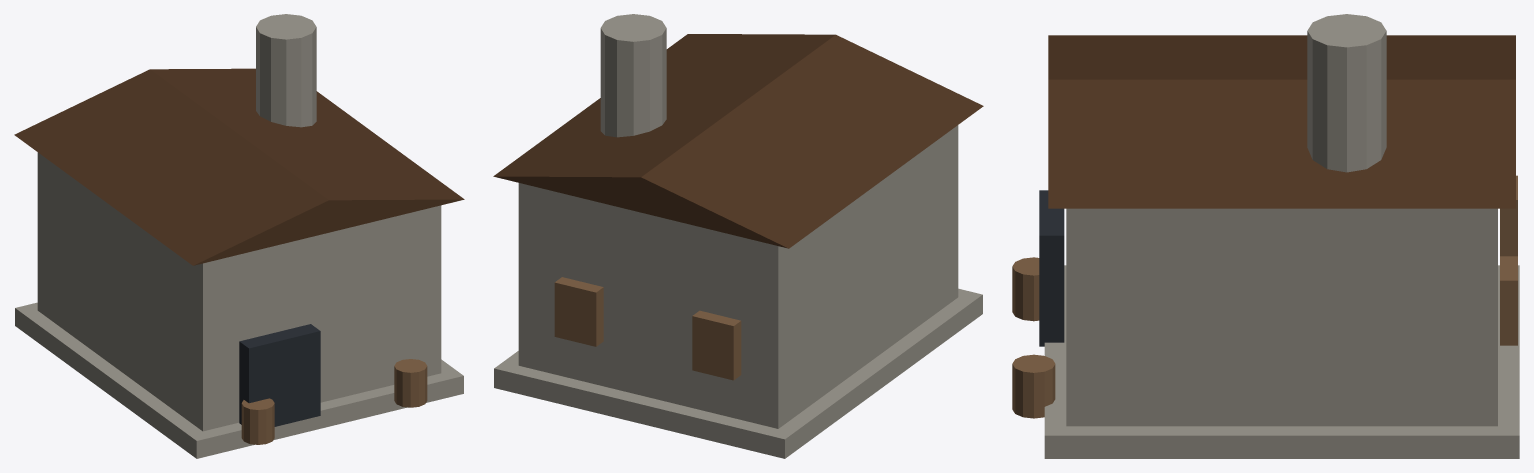
Rendered from bld_industrial_a02.glb.
3 renders of one model, left to right at view 1: azimuth 30°, elevation 25°; view 2: azimuth 150°, elevation 25°; view 3: azimuth 270°, elevation 25°, orthographic. The views are drawn at different scales.
Visible parts, largest first — view 1: body; view 2: body; view 3: body.
Boxes of the visible parts, x1,y1,x2,y2 form: body: (14, 14, 464, 458); body: (493, 14, 983, 458); body: (1012, 14, 1519, 458).
Size of what is drawn, in the model's own units: 5.7 by 5.96 by 7.05.
